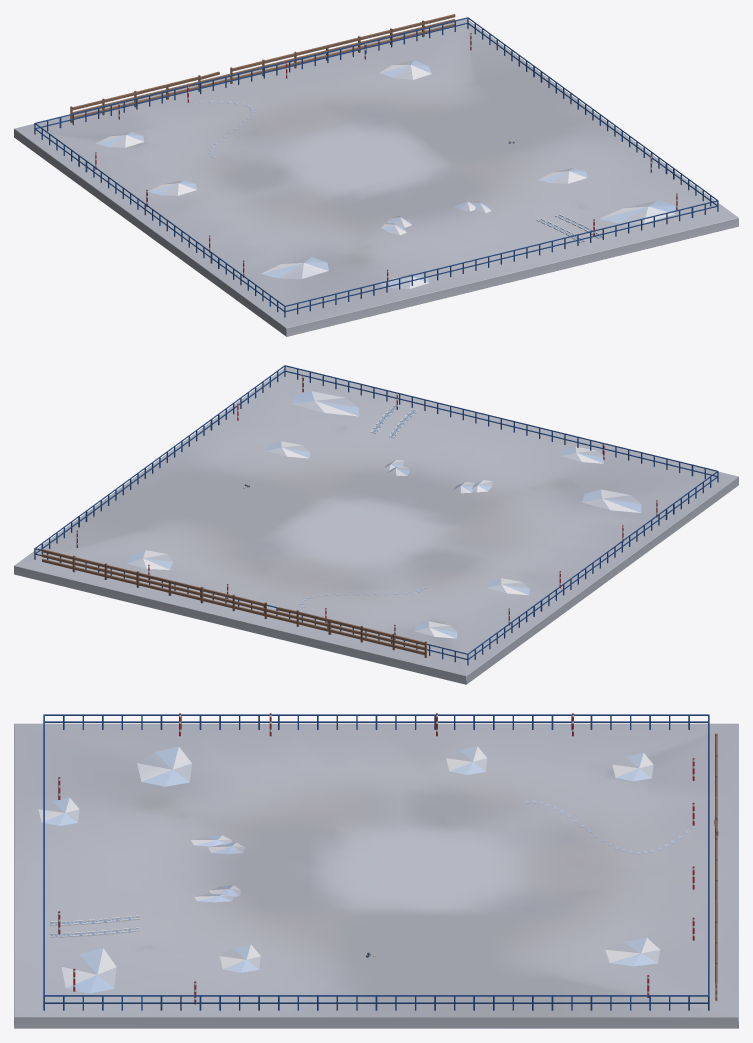
File: snow_terrain.glb
3 renders of one model, top to bottom at view 1: azimuth 30°, elevation 25°; view 2: azimuth 150°, elevation 25°; view 3: azimuth 270°, elevation 25°, orthographic. The views are drawn at different scales.
Parts seen in each view (by area): view 1: snow_terrain; view 2: snow_terrain; view 3: snow_terrain.
Boxes of the visible parts, box(x1,y1,x2,y2) form: snow_terrain: box(14, 14, 738, 336); snow_terrain: box(14, 365, 738, 684); snow_terrain: box(14, 713, 738, 1028).
Size of the model in its own units: 46 by 2.52 by 48.
